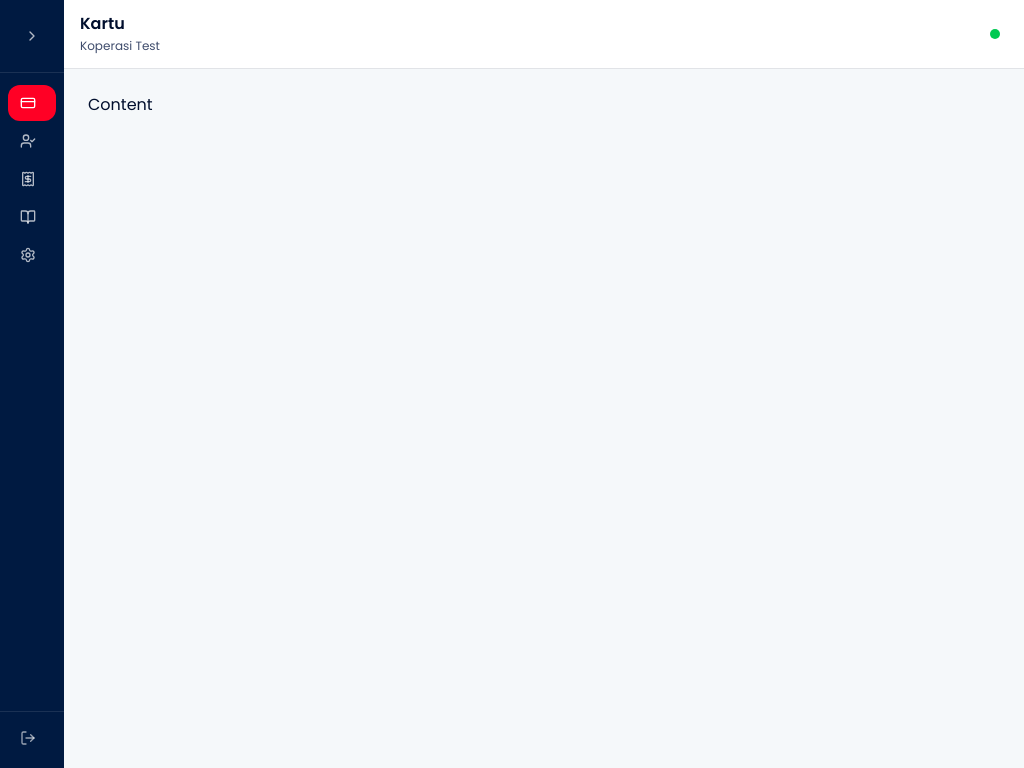
Test case: AdminLayout › opens sync drawer when sync status button is clicked
This screenshot has width=1024, height=768.
Click the button named "Lihat status sinkronisasi". click: (995, 34)
box: [982, 25, 1008, 43]
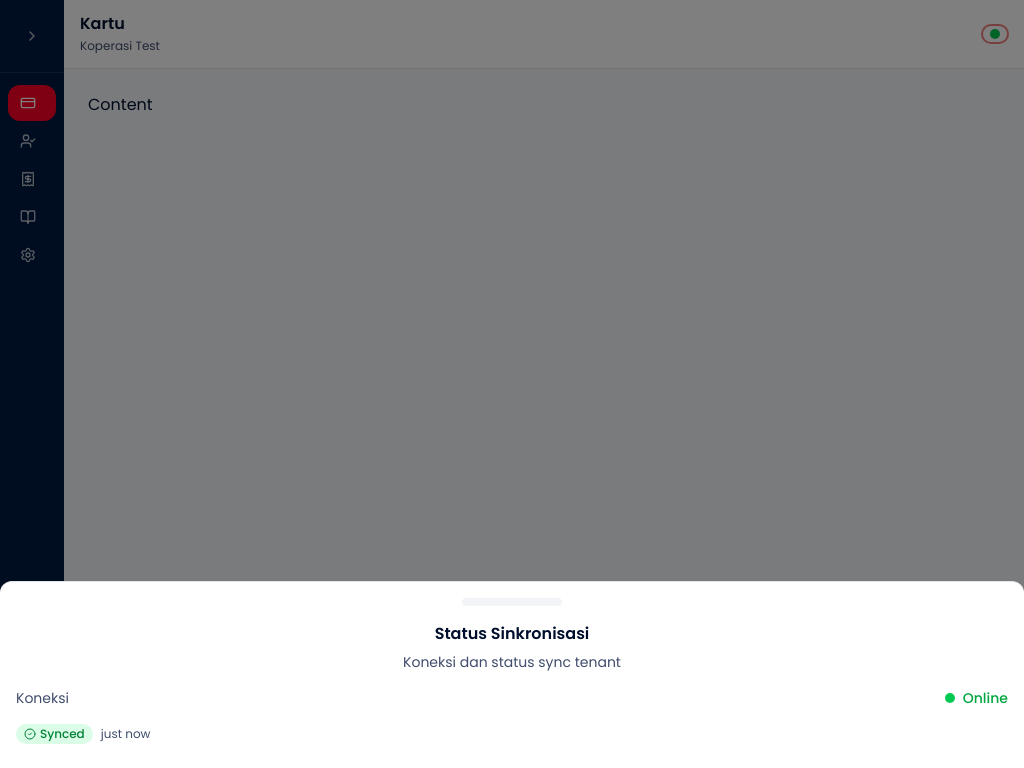
Result: the heading "Status Sinkronisasi" is shown at [435, 622, 589, 645]
